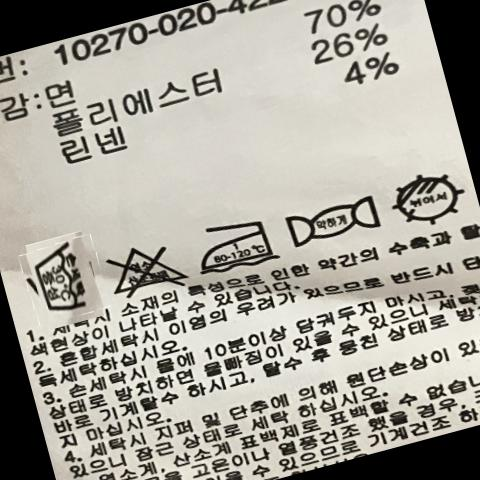DN_bleach: (116, 234, 184, 297)
dry_flat_in_shade: (391, 167, 465, 230)
hand_wash: (32, 224, 96, 321)
iron_low: (199, 210, 275, 278)
wring: (286, 189, 385, 253)
